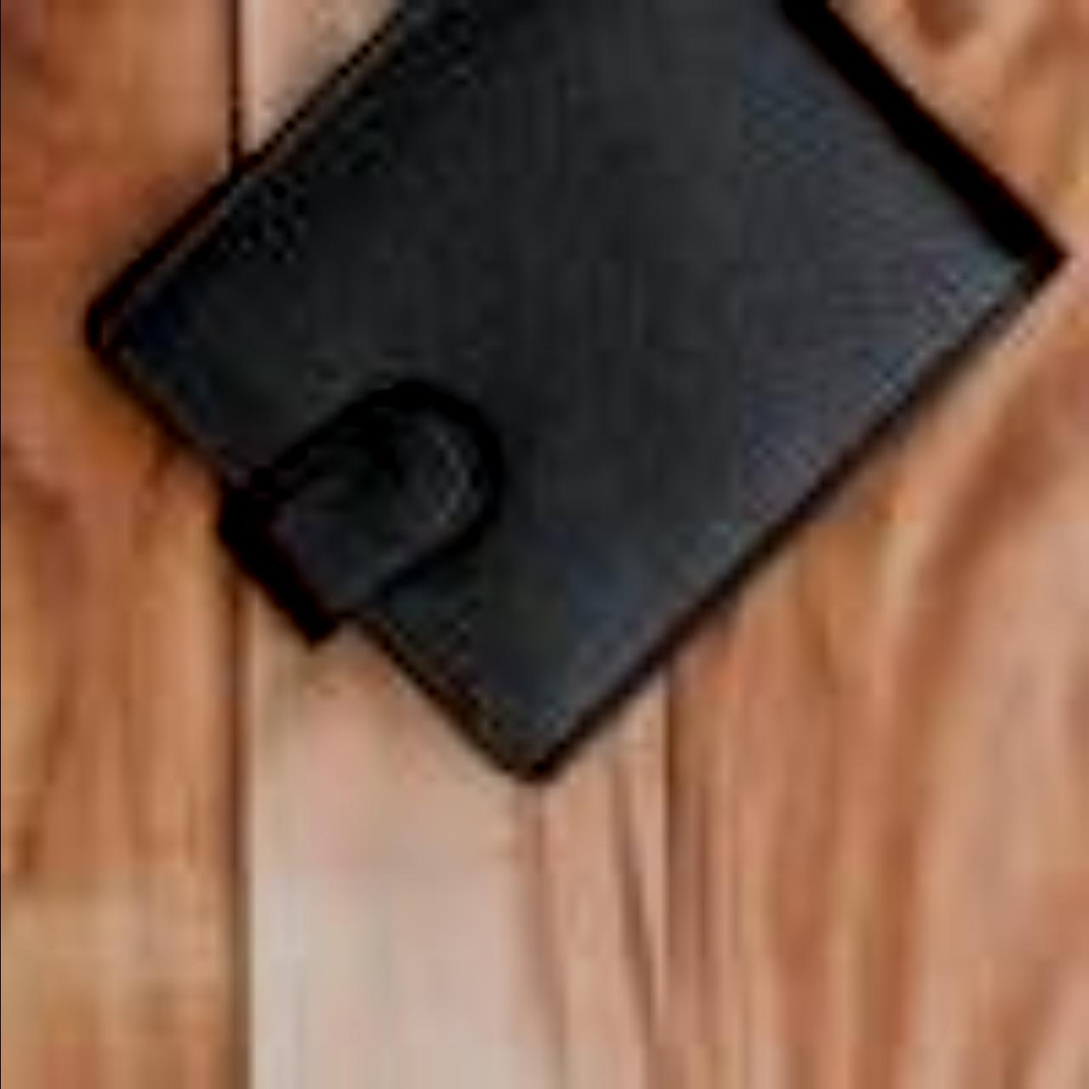wallet: (0, 17, 1078, 800)
